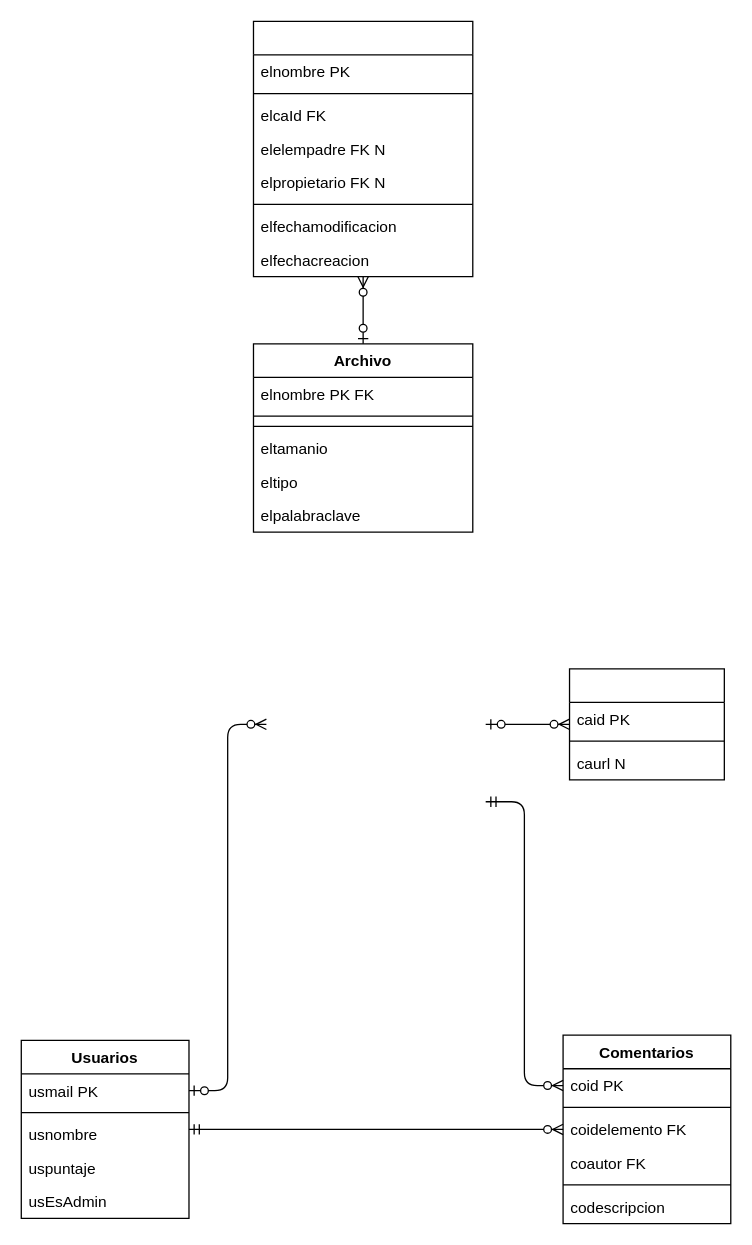
This 752x1245 diagram has some shape labels left out. The shapes that lost their labels are listed below. From the top down, each one's box as (x1, y1, x2, y2) in pixels, then its label:
(252, 20, 473, 277): Carpeta
(568, 668, 724, 780): Catedras
